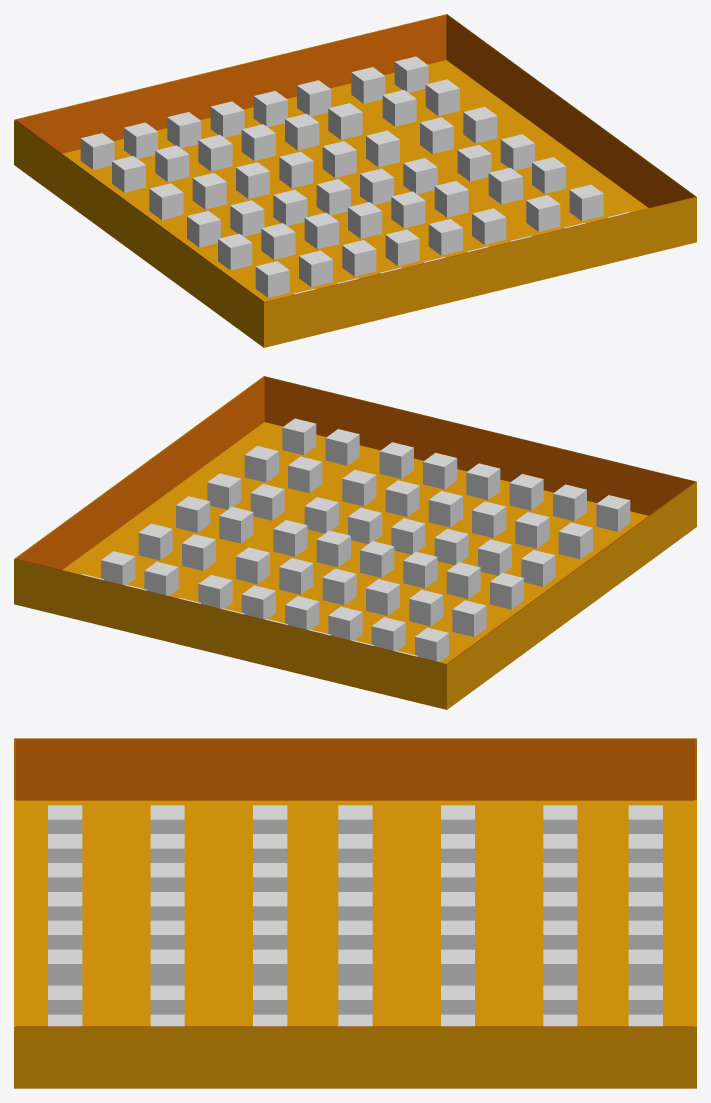
File: bomberlevel.glb
3 views of the same model, one above another, from view 1: azimuth 30°, elevation 25°; view 2: azimuth 150°, elevation 25°; view 3: azimuth 270°, elevation 25° (orthographic). The views are drawn at different scales.
Visible parts, largest first — view 1: Cube, Cube.021, Cube.022, Cube.054, Cube.017, Cube.018, Cube.020, Cube.023, Cube.031, Cube.047, Cube.052, Cube.053 (+37 smaller); view 2: Cube, Cube.018, Cube.001, Cube.003, Cube.014, Cube.030, Cube.032, Cube.037, Cube.050, Cube.002, Cube.004, Cube.005 (+37 smaller); view 3: Cube, Cube.002, Cube.010, Cube.014, Cube.018, Cube.022, Cube.026, Cube.006, Cube.001, Cube.043, Cube.009, Cube.013 (+38 smaller).
Boxes of the visible parts, left/top/right/bottom form: Cube: left=14, top=14, right=696, bottom=347; Cube.021: left=391, top=191, right=425, bottom=228; Cube.022: left=434, top=181, right=468, bottom=217; Cube.054: left=532, top=157, right=566, bottom=193; Cube.017: left=428, top=219, right=462, bottom=255; Cube.018: left=472, top=208, right=506, bottom=244; Cube.020: left=385, top=229, right=419, bottom=266; Cube.023: left=304, top=212, right=338, bottom=249; Cube.031: left=149, top=183, right=183, bottom=219; Cube.047: left=382, top=90, right=416, bottom=126; Cube.052: left=569, top=184, right=603, bottom=221; Cube.053: left=488, top=167, right=522, bottom=204; Cube: left=14, top=376, right=696, bottom=709; Cube.018: left=342, top=469, right=376, bottom=506; Cube.001: left=316, top=530, right=350, bottom=567; Cube.003: left=403, top=551, right=437, bottom=588; Cube.014: left=379, top=442, right=413, bottom=478; Cube.030: left=446, top=562, right=480, bottom=598; Cube.032: left=409, top=589, right=443, bottom=626; Cube.037: left=558, top=522, right=592, bottom=559; Cube.050: left=282, top=418, right=316, bottom=455; Cube.002: left=273, top=520, right=307, bottom=556; Cube.004: left=360, top=541, right=394, bottom=577; Cube.005: left=279, top=558, right=313, bottom=594; Cube: left=14, top=738, right=696, bottom=1088; Cube.002: left=338, top=949, right=372, bottom=985; Cube.010: left=543, top=949, right=577, bottom=985; Cube.014: left=48, top=949, right=82, bottom=985; Cube.018: left=150, top=949, right=184, bottom=985; Cube.022: left=253, top=949, right=287, bottom=985; Cube.026: left=628, top=949, right=662, bottom=985; Cube.006: left=441, top=949, right=474, bottom=985; Cube.001: left=338, top=920, right=372, bottom=949; Cube.043: left=338, top=985, right=372, bottom=1014; Cube.009: left=543, top=920, right=577, bottom=949; Cube.013: left=48, top=920, right=82, bottom=949.
Size of the model in its own units: 40 by 4 by 40.
